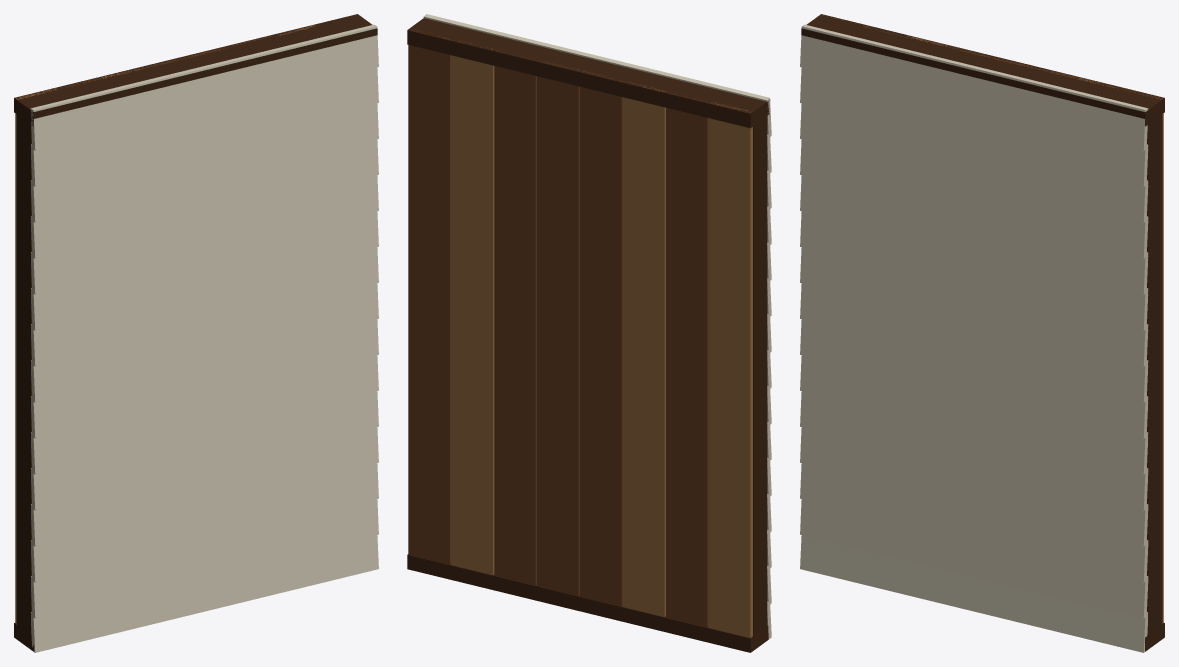
Rendered from SM_Wall_Plank_Painted.obj.
3 renders of one model, left to right at view 1: azimuth 30°, elevation 25°; view 2: azimuth 150°, elevation 25°; view 3: azimuth 330°, elevation 25°, orthographic.
Visible parts, largest first — view 1: SM_Wall_Plank_Painted; view 2: SM_Wall_Plank_Painted; view 3: SM_Wall_Plank_Painted.
Part boxes in pixels (bbox=[...]): SM_Wall_Plank_Painted: bbox=[14, 14, 378, 652]; SM_Wall_Plank_Painted: bbox=[407, 14, 771, 652]; SM_Wall_Plank_Painted: bbox=[800, 14, 1164, 652].
Bounding box in the file's own units: 2 × 3.01 × 0.2137.
